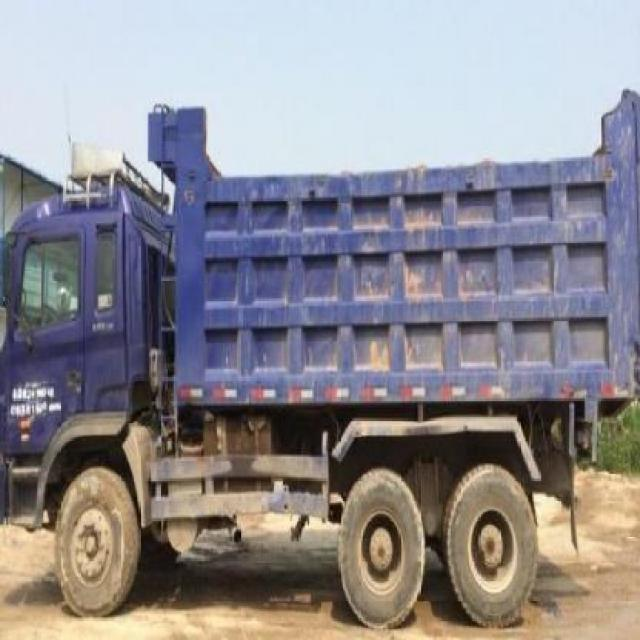Dump Truck: (0, 92, 634, 630)
